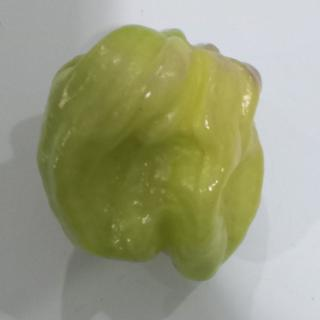Grade-B: (27, 14, 269, 286)
